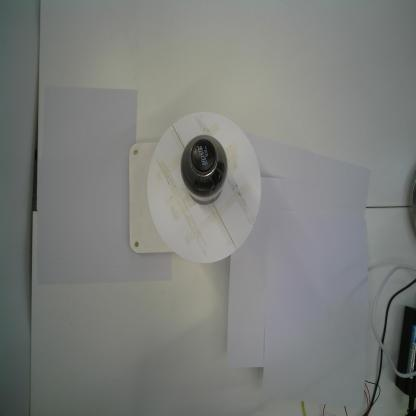Drink: (180, 131, 228, 208)
